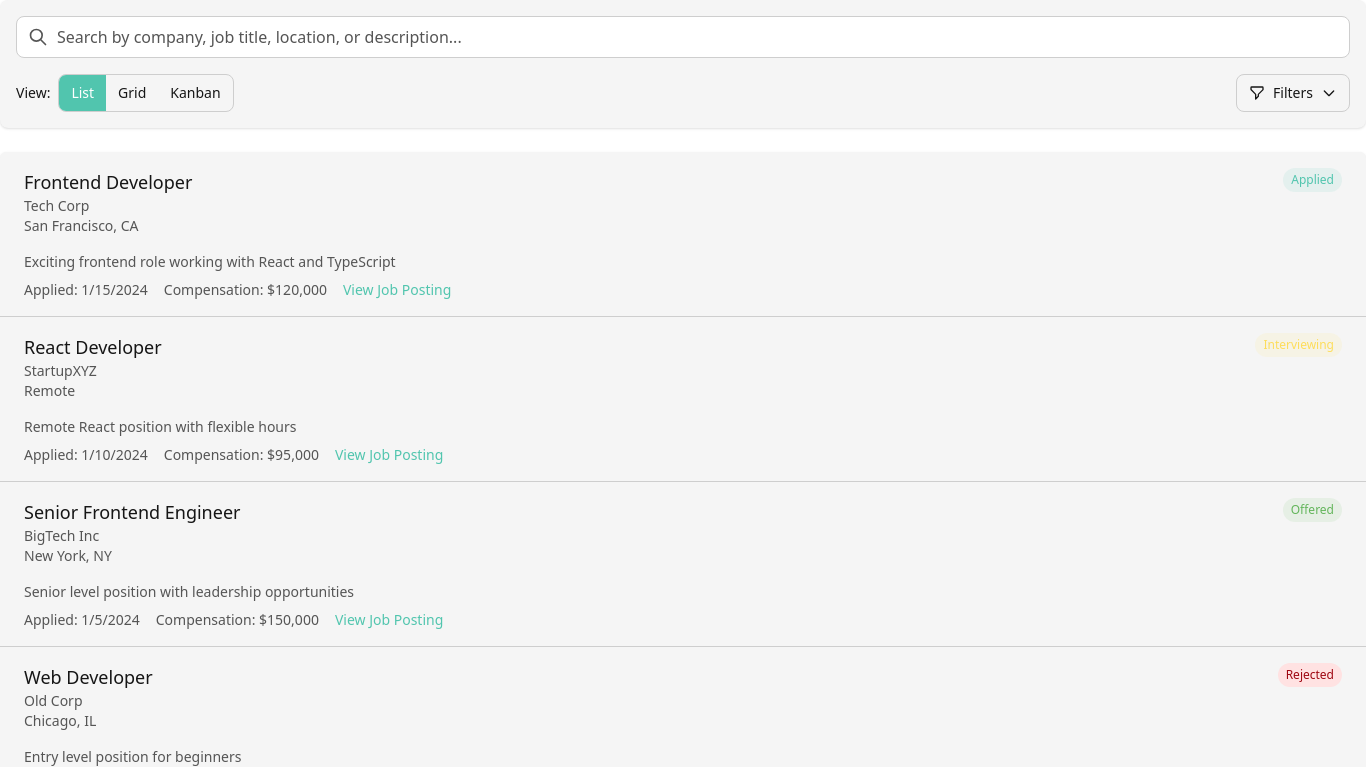
Test: ApplicationsView Component › Collapsible Filters › should show filters when toggle button is clicked
The image size is (1366, 767).
Click the button with test id "toggle-filters-button": (1293, 93) [1236,74,1350,112]
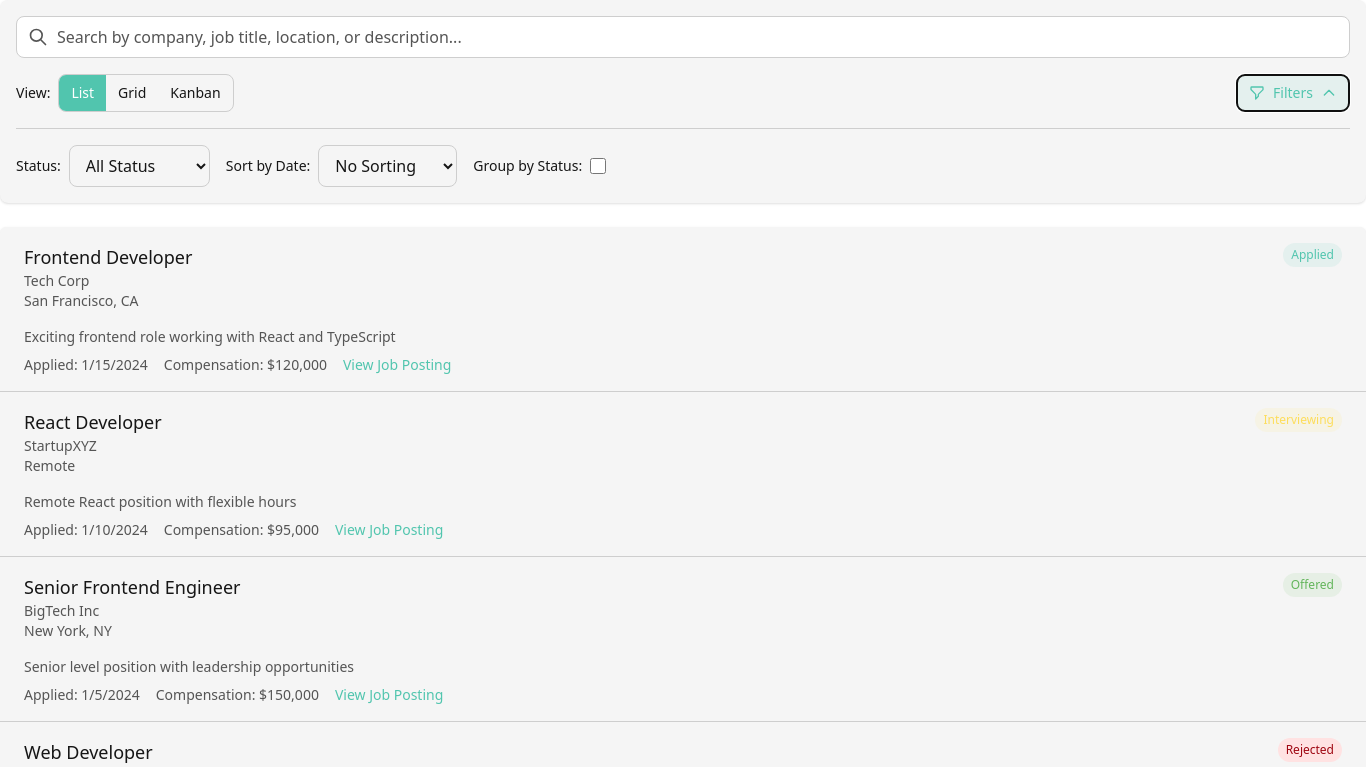
expect the dropdown with test id "status-filter" is shown: met, box [69,145,210,187]
expect the dropdown with test id "date-sort-filter" is shown: met, box [318,145,457,187]
